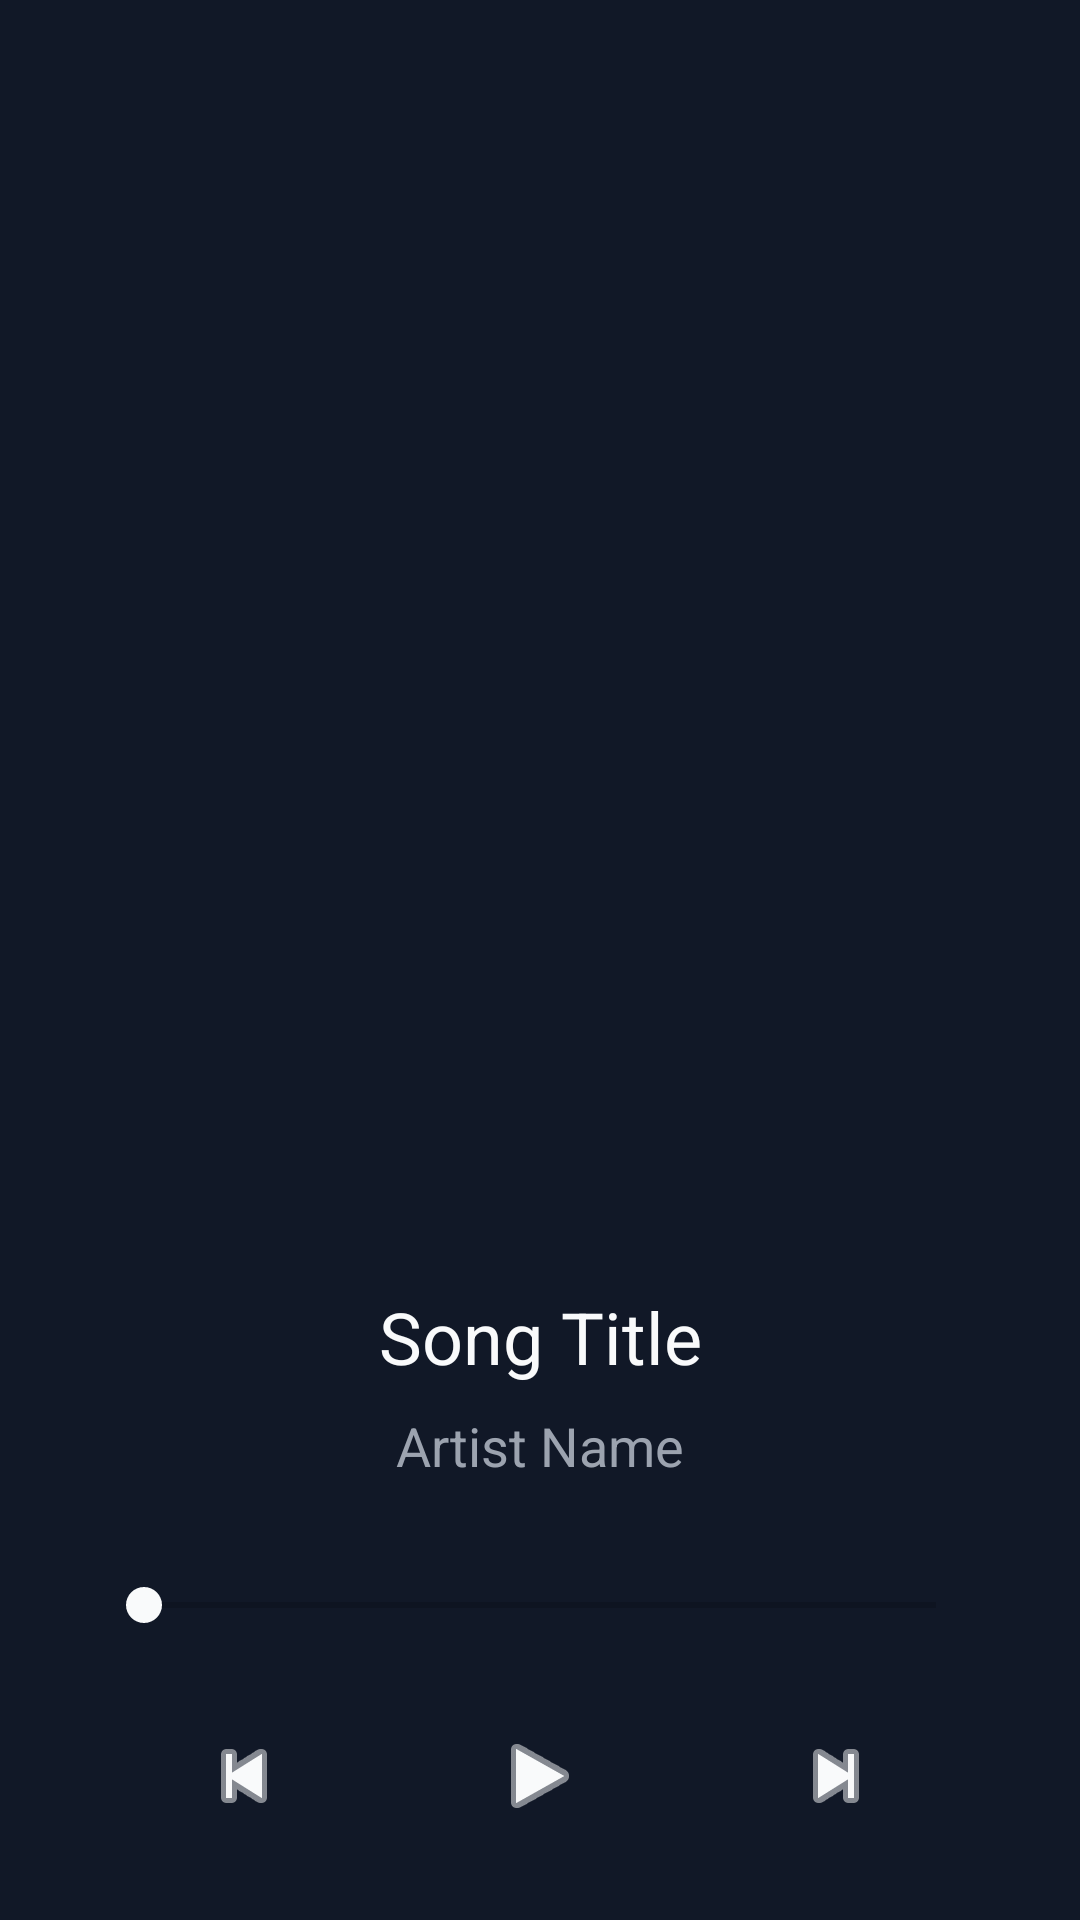

Locate icon controls on the screen. Image size 1080px×1920px, boxes as (x1=x1, y1=y1, x2=x2, y2=y2).
next: (x1=813, y1=1749, x2=859, y2=1803)
play: (x1=511, y1=1744, x2=569, y2=1808)
previous: (x1=221, y1=1749, x2=267, y2=1803)
